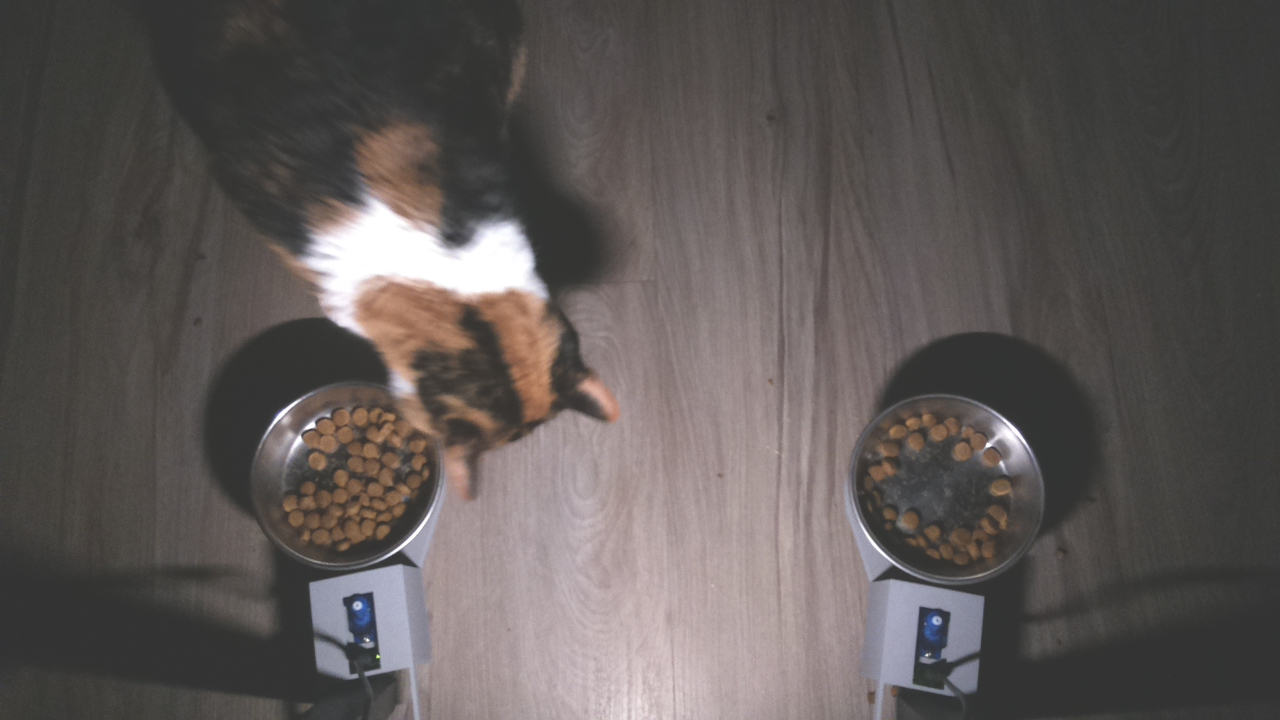bella: (290, 214, 627, 503)
open_bowl: (230, 370, 454, 578), (852, 394, 1059, 583)
